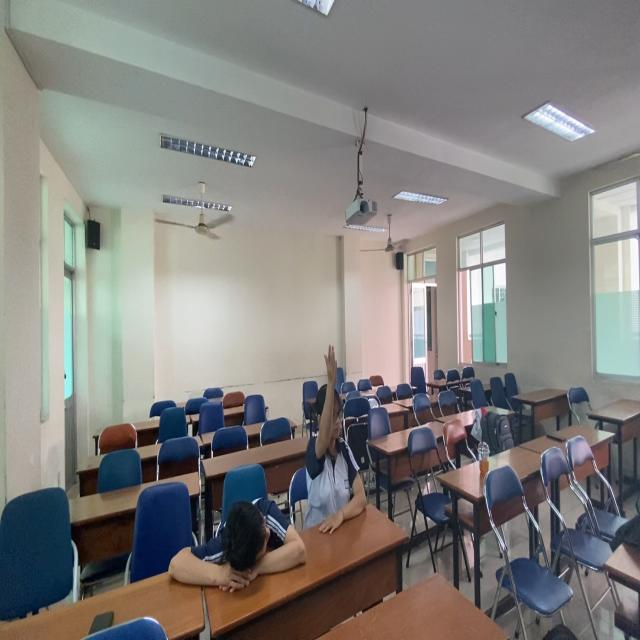raise_hand: (306, 342, 370, 535)
sleep: (164, 495, 314, 598)
